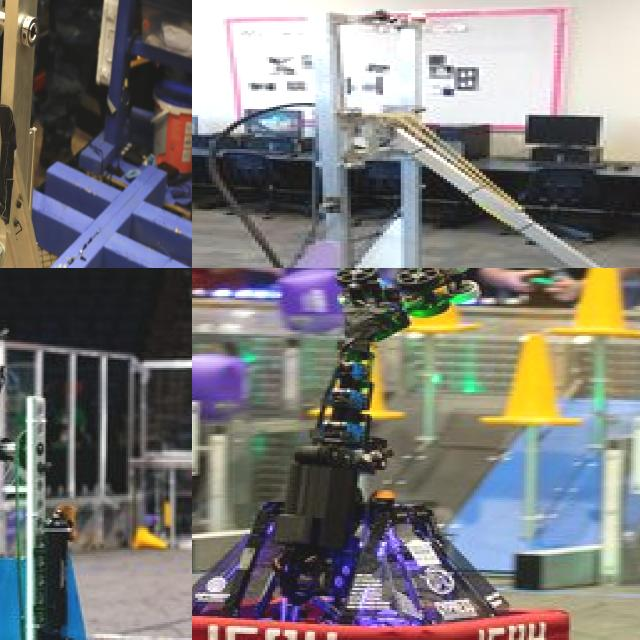FRC-Robots: (192, 268, 624, 640), (192, 0, 640, 268), (0, 363, 192, 640), (0, 0, 192, 268)
